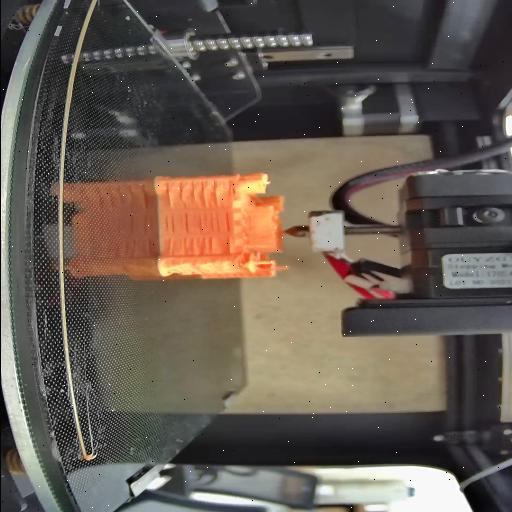cracks: (164, 182, 220, 210), (167, 237, 215, 256), (199, 211, 231, 233), (166, 214, 188, 234), (220, 234, 232, 254)
